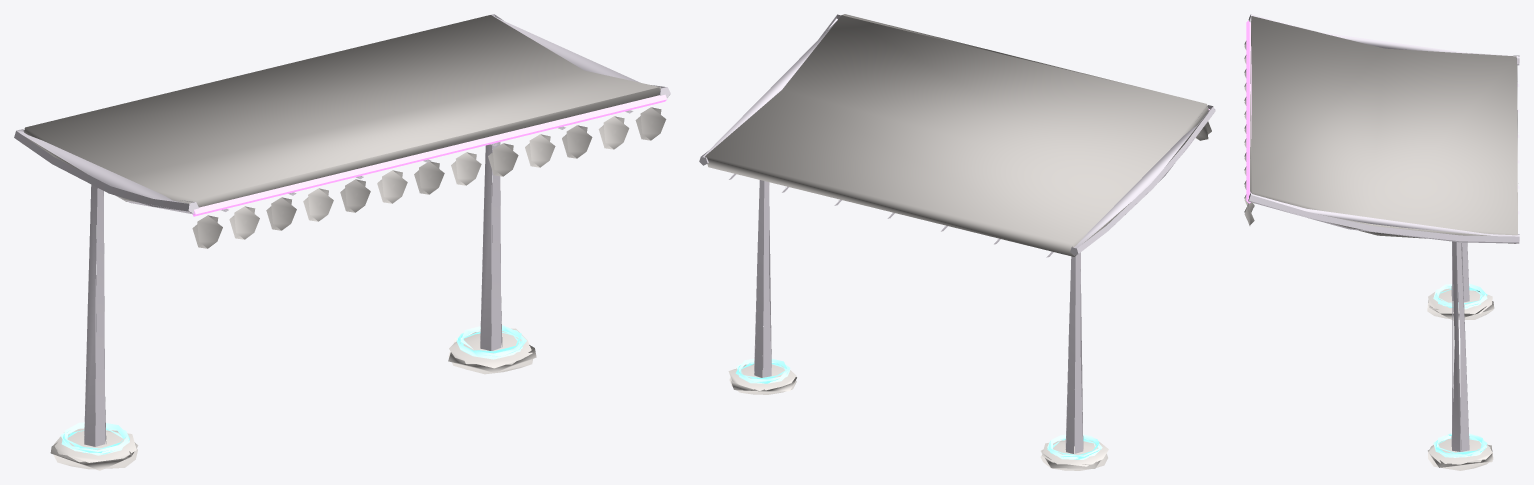
File: lod_canopy_curved.glb
The picture shows the model from 3 angles, left to right: view 1: azimuth 30°, elevation 25°; view 2: azimuth 150°, elevation 25°; view 3: azimuth 270°, elevation 25°; orthographic projection. The views are drawn at different scales.
Parts seen in each view (by area): view 1: canopy_curved; view 2: canopy_curved; view 3: canopy_curved.
Boxes of the visible parts, left/top/right/bottom form: canopy_curved: left=14, top=14, right=670, bottom=470; canopy_curved: left=699, top=14, right=1215, bottom=470; canopy_curved: left=1244, top=14, right=1519, bottom=470.
Bounding box in the file's own units: 5.11 × 3.67 × 3.26.
